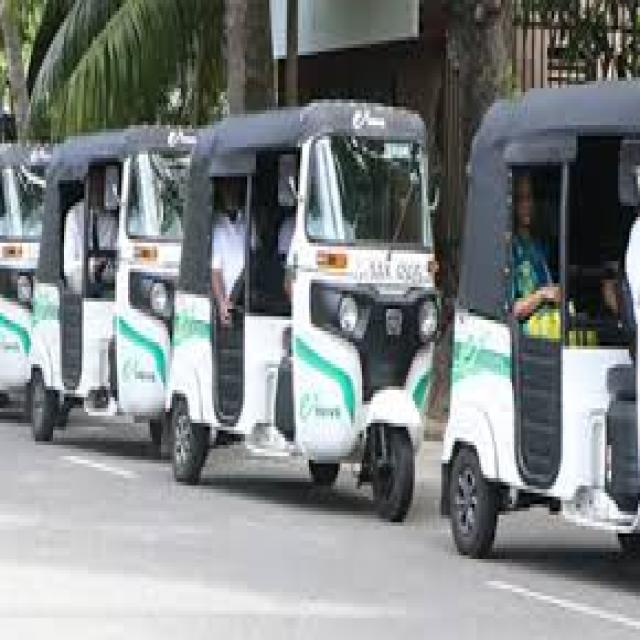person: (513, 166, 558, 338), (212, 180, 245, 327)
three wheeler: (170, 99, 437, 515), (441, 81, 638, 552), (31, 125, 194, 441), (0, 143, 49, 401)
